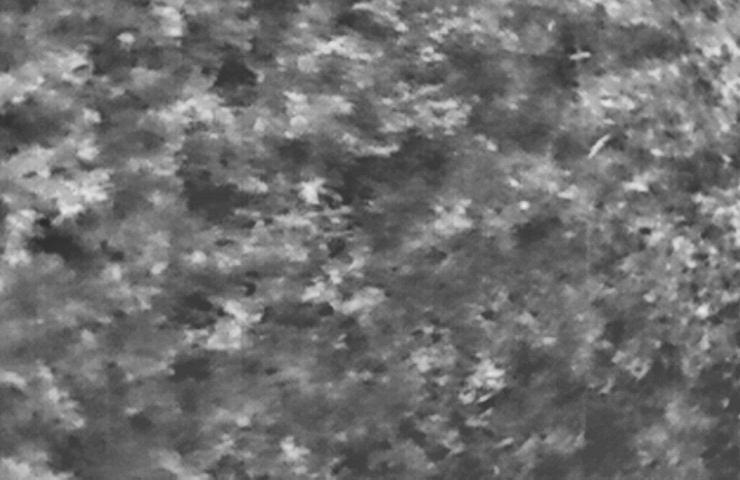landmines: (295, 174, 330, 208)
